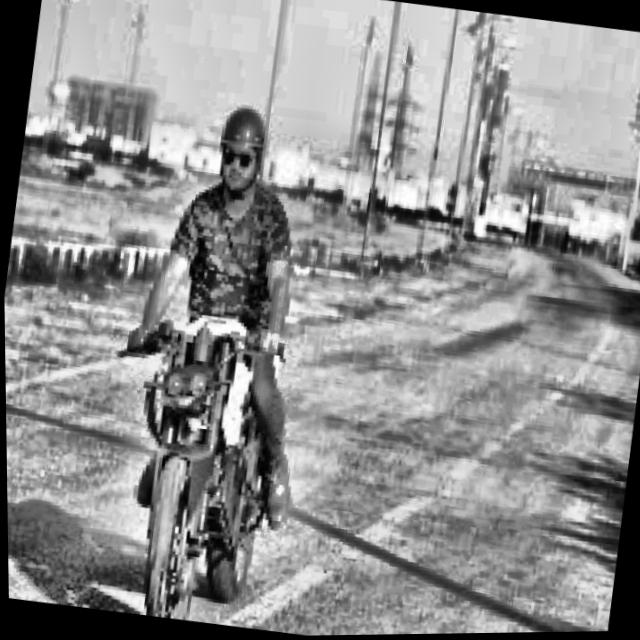motorcycle: (84, 282, 349, 639)
